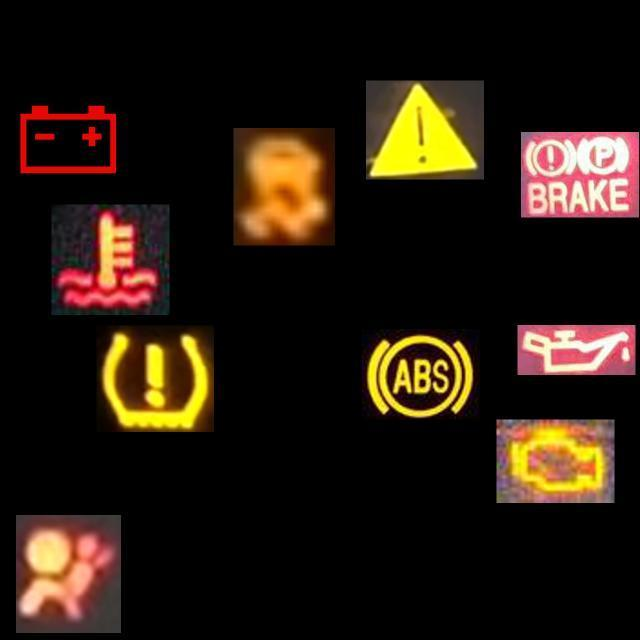Central Warning lamp: (366, 80, 484, 180)
Engine cooling system: (52, 204, 170, 316)
